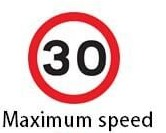Traffic signal: (27, 11, 121, 104)
